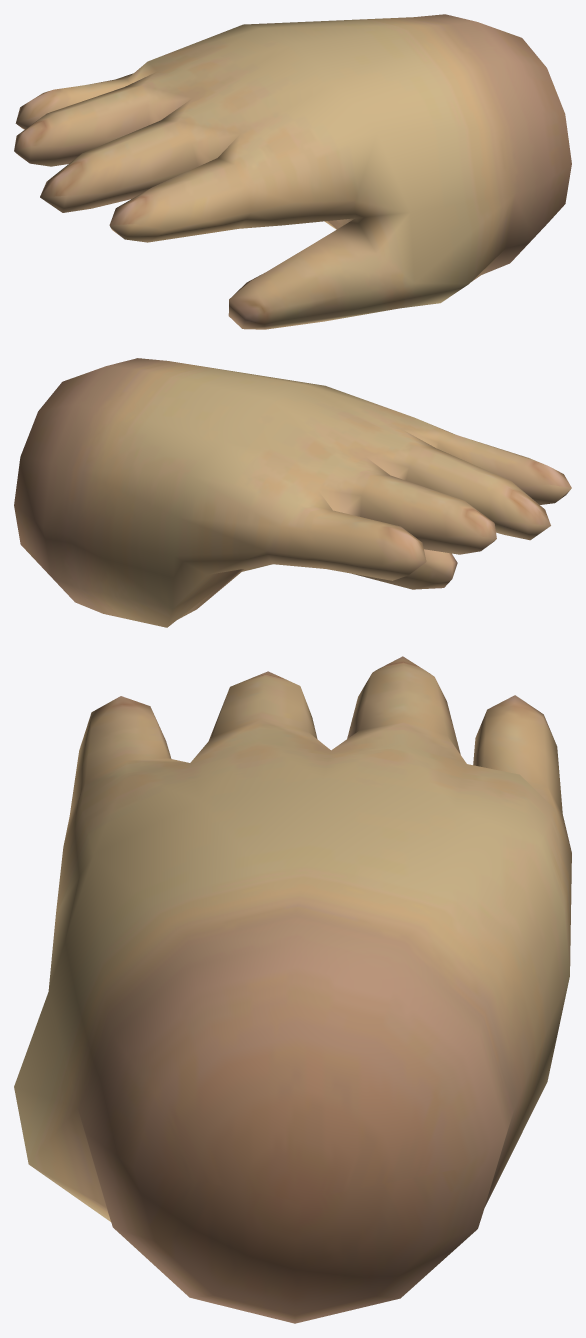
Rendered from leftHand.obj.
The picture shows the model from 3 angles, top to bottom: view 1: azimuth 30°, elevation 25°; view 2: azimuth 150°, elevation 25°; view 3: azimuth 270°, elevation 25°; orthographic projection. The views are drawn at different scales.
Parts seen in each view (by area): view 1: polygon0; view 2: polygon0; view 3: polygon0.
Boxes of the visible parts, x1,y1,x2,y2 form: polygon0: (14, 14, 571, 329); polygon0: (14, 358, 571, 627); polygon0: (14, 656, 571, 1323).
Bounding box in the file's own units: 1.95 × 0.881 × 1.08.
Materials: 1 (1 with a texture image).
